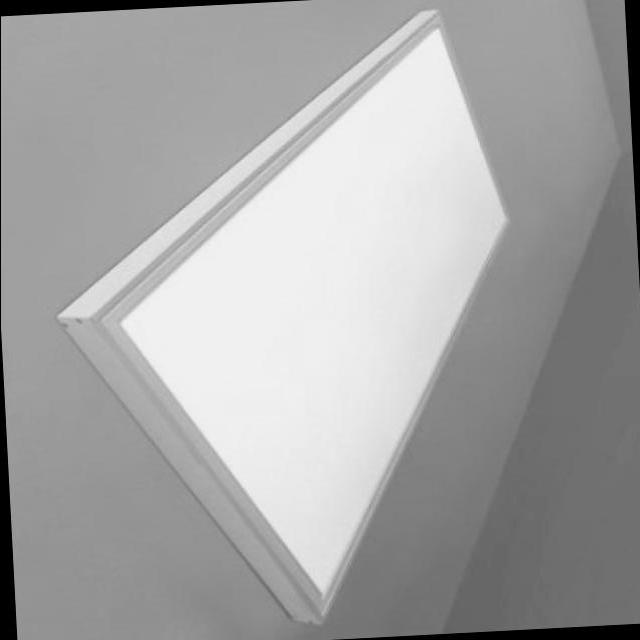light: (53, 9, 510, 627)
